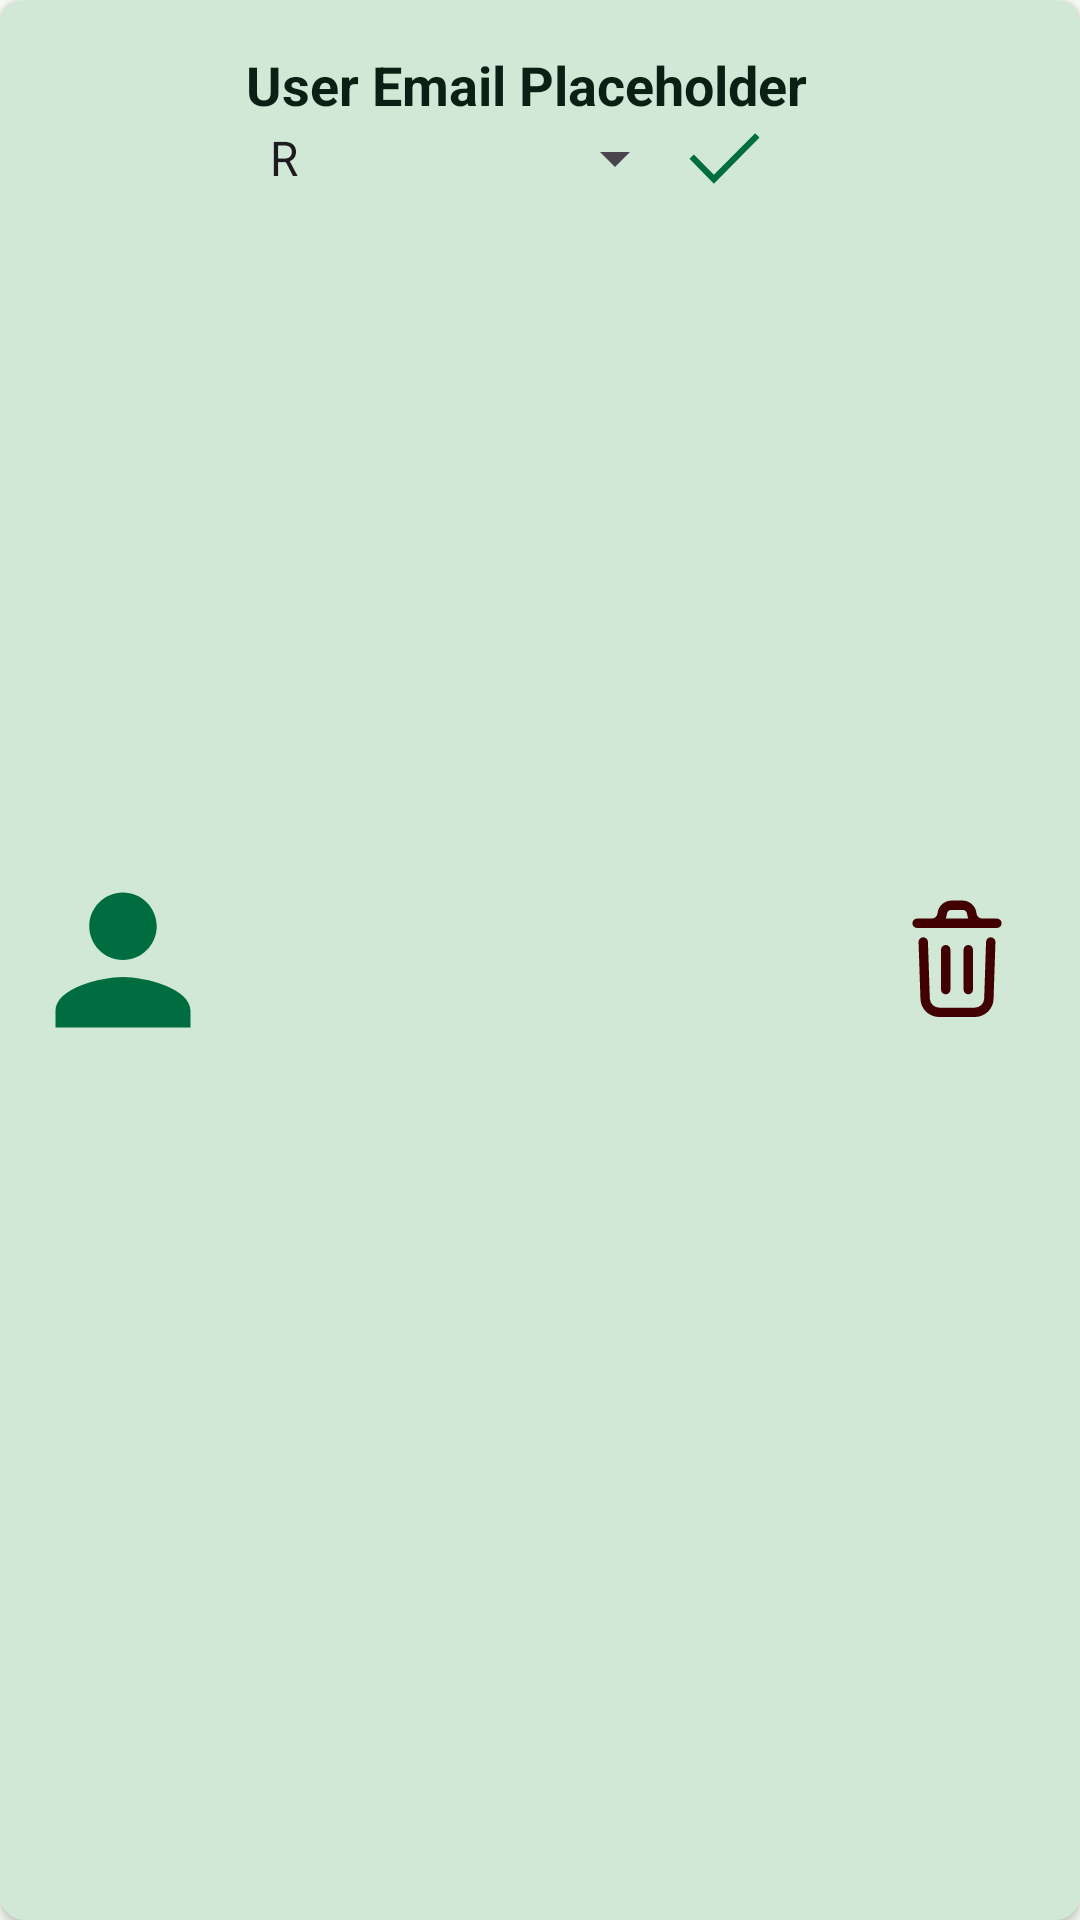

Icons on this 1080*1920 Android screen, each with the point to tap as point (x, y):
delete: point (957, 958)
User Image: point (123, 960)
